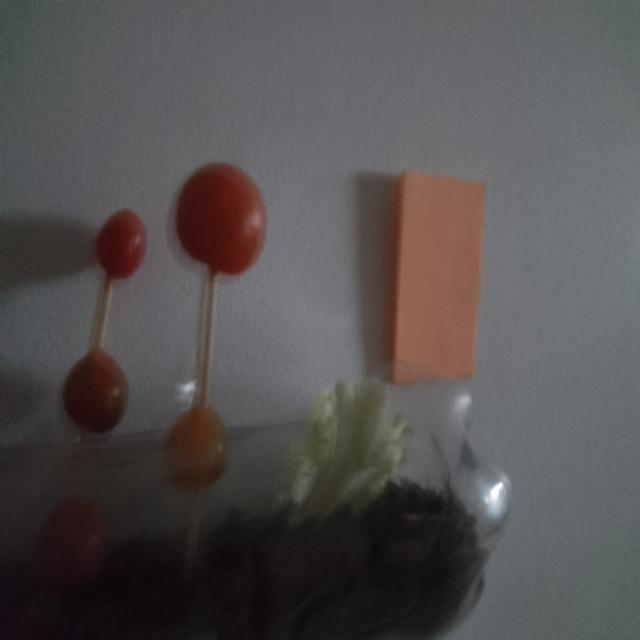card: (392, 171, 485, 381)
fruit_maturation: (167, 405, 228, 491)
fully_grown: (176, 163, 266, 275), (34, 495, 107, 588), (63, 349, 128, 433), (97, 210, 145, 278)
